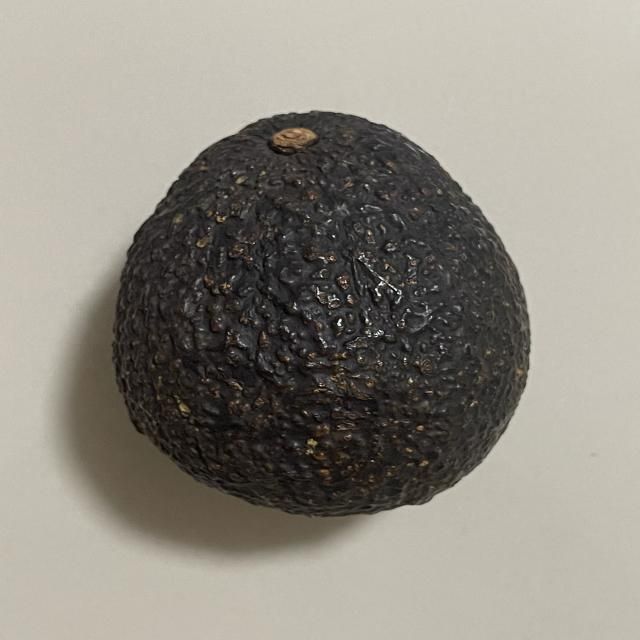Level2: (105, 103, 540, 524)
